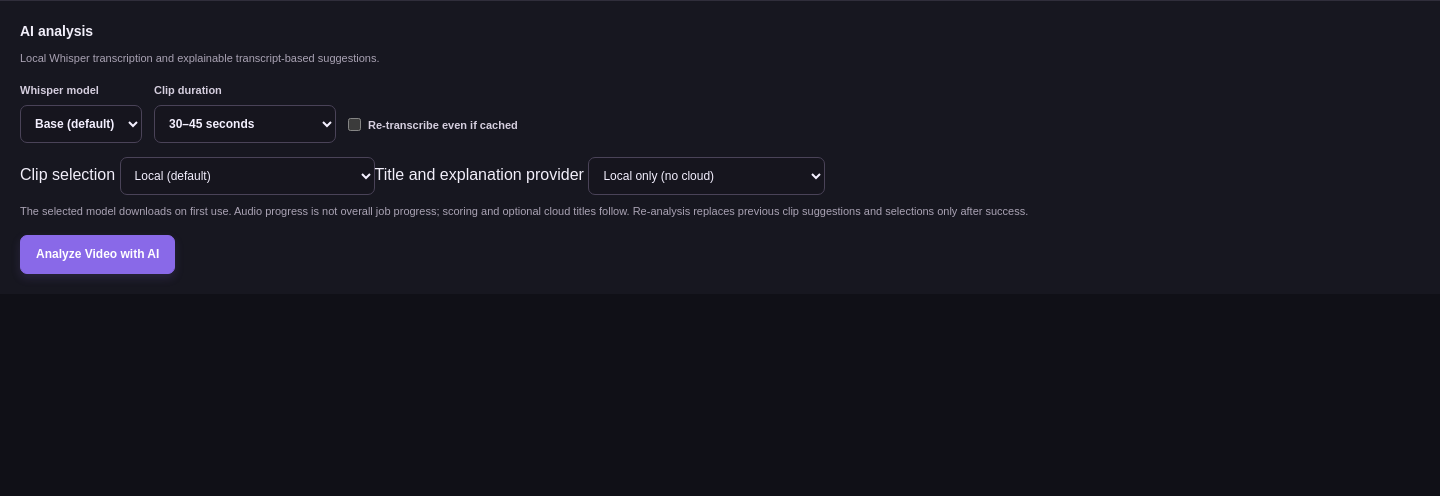
AI analysis › starts analysis using selected settings and displays actual job stage and progress
Select "Tiny (fastest)" in the dropdown labelled "Whisper model" at [81, 124], box [20,105,142,143]
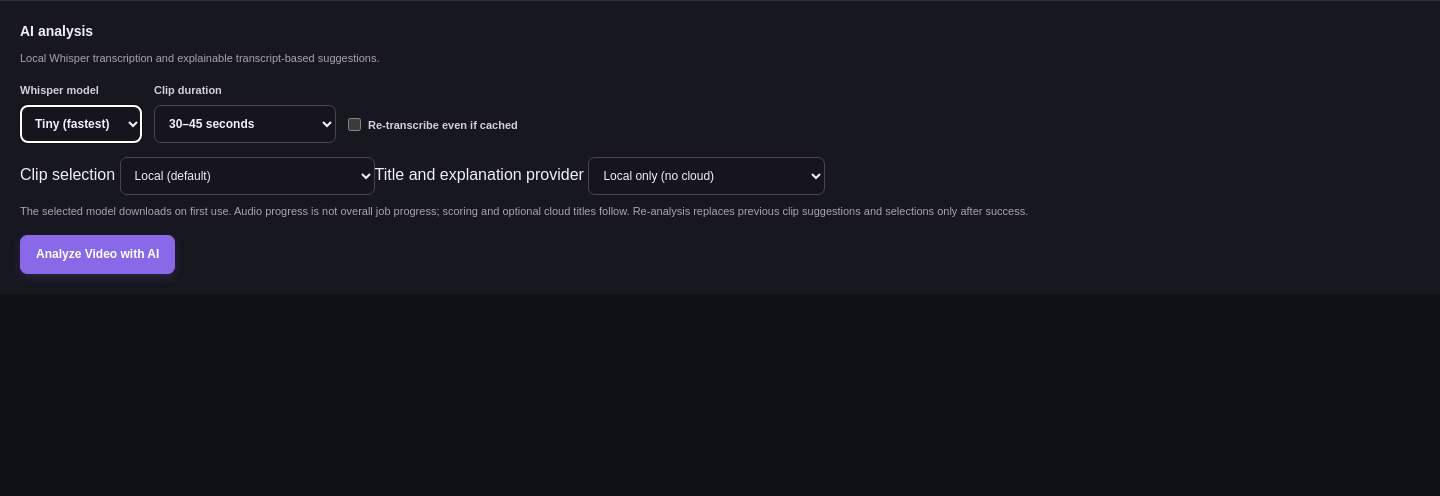
Select "15–30 seconds" in the dropdown labelled "Clip duration" at [245, 124], box [154,105,336,143]
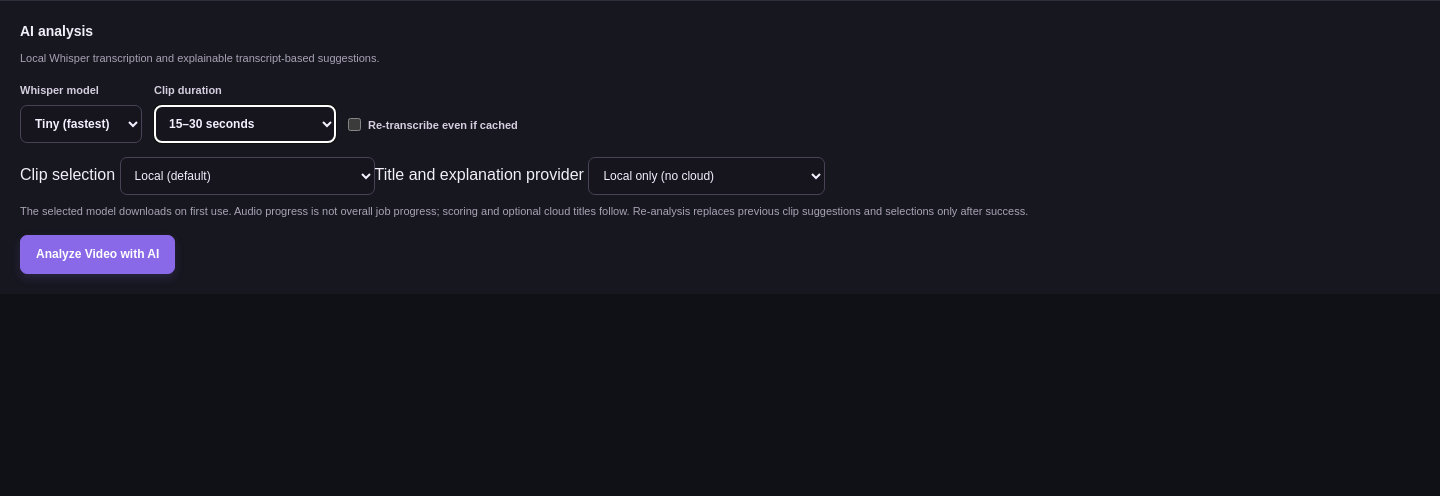
Click the button "Analyze Video with AI" at [98, 254], box [20,235,175,274]
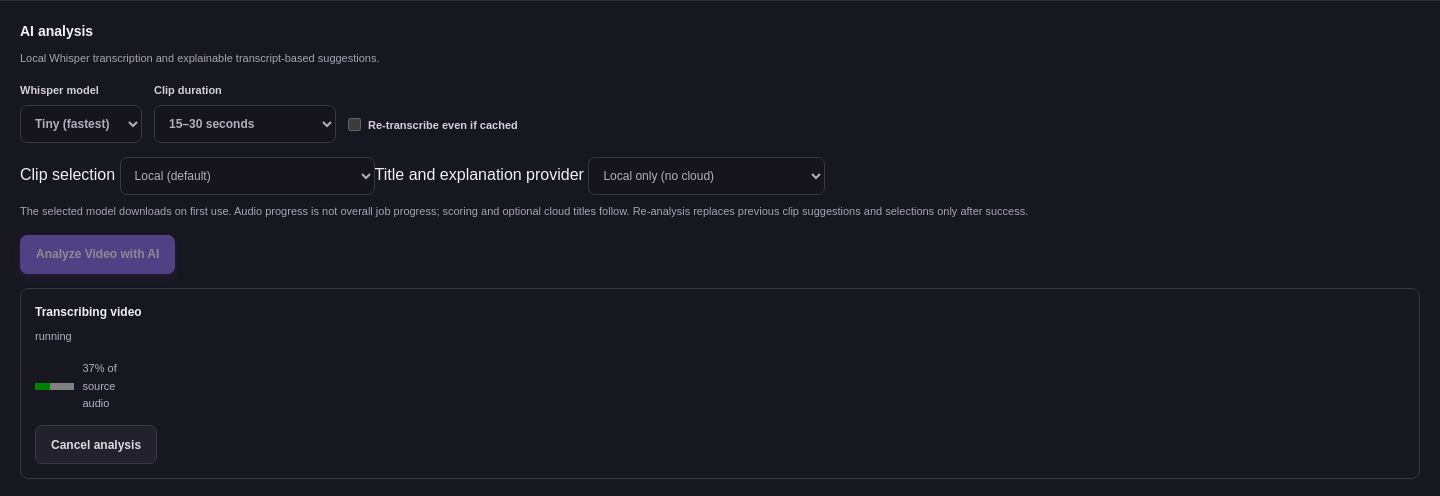
Expected: the text "Transcribing video" is shown, [35,303,142,321]
Expected: the text "37% of source audio" is shown, [82,362,117,410]
Expected: the button "Analyze Video with AI" is disabled, [20,235,175,274]
